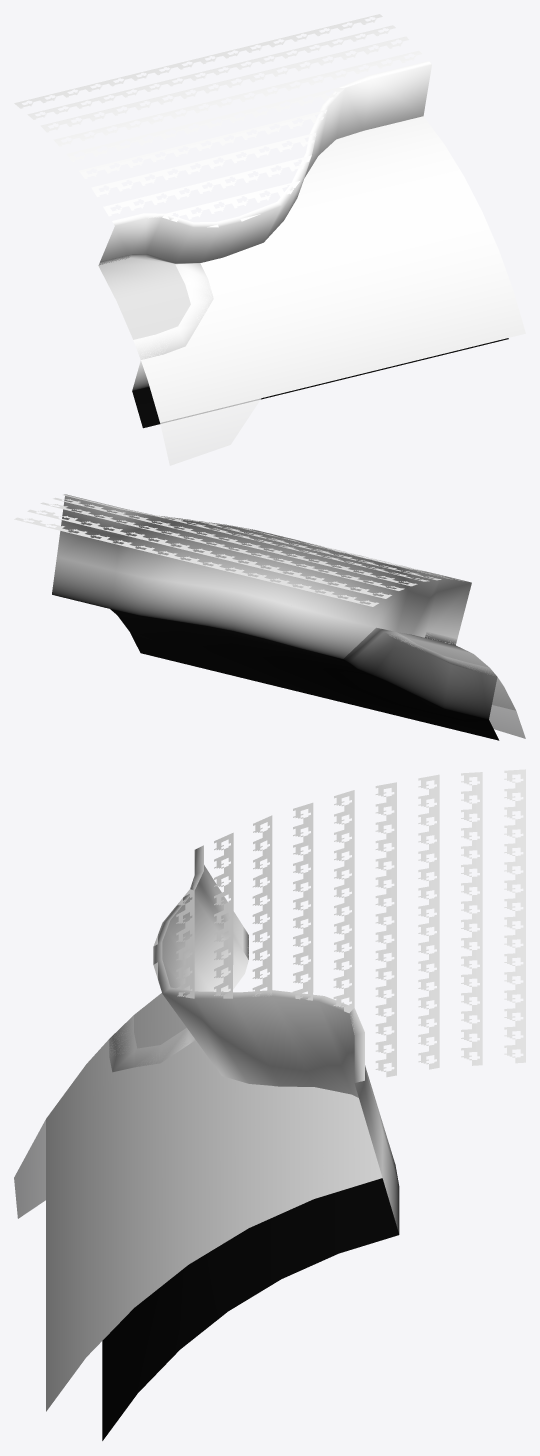
The model's file is grd_Mse_s_E_2.dae.
3 renders of one model, top to bottom at view 1: azimuth 30°, elevation 25°; view 2: azimuth 150°, elevation 25°; view 3: azimuth 270°, elevation 25°, orthographic. The views are drawn at different scales.
Parts seen in each view (by area): view 1: grd_Mse_s_E_2; view 2: grd_Mse_s_E_2; view 3: grd_Mse_s_E_2.
Boxes of the visible parts, box(x1,y1,x2,y2) form: grd_Mse_s_E_2: box(14, 14, 525, 465); grd_Mse_s_E_2: box(14, 494, 525, 740); grd_Mse_s_E_2: box(14, 769, 525, 1440).
Size of the model in its own units: 512 by 332 by 378.
7 materials, 1 textured.
